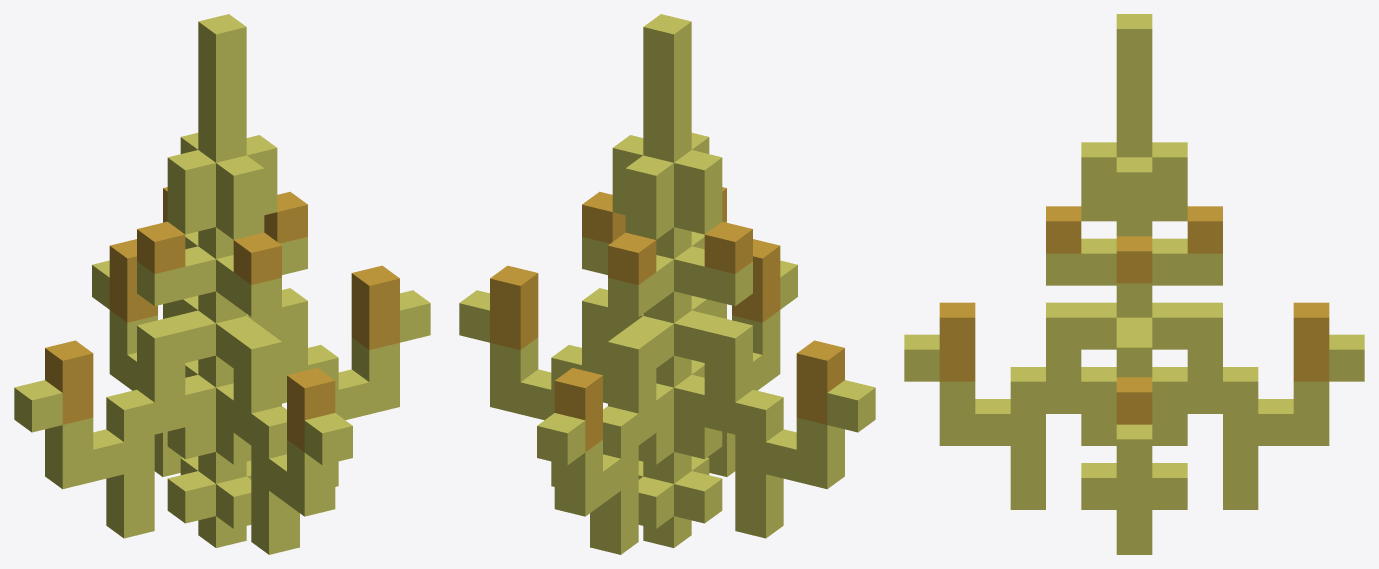
File: Light_Chandelier_00.fbx
3 views of the same model, side by side, from view 1: azimuth 30°, elevation 25°; view 2: azimuth 150°, elevation 25°; view 3: azimuth 270°, elevation 25° (orthographic).
Visible parts, largest first — view 1: Light_Chandelier_00; view 2: Light_Chandelier_00; view 3: Light_Chandelier_00.
Part boxes in pixels (x1,y1,x2,y2): Light_Chandelier_00: (14, 14, 430, 554); Light_Chandelier_00: (459, 14, 875, 554); Light_Chandelier_00: (904, 14, 1364, 554).
Size of the model in its own units: 65 by 80 by 65.
